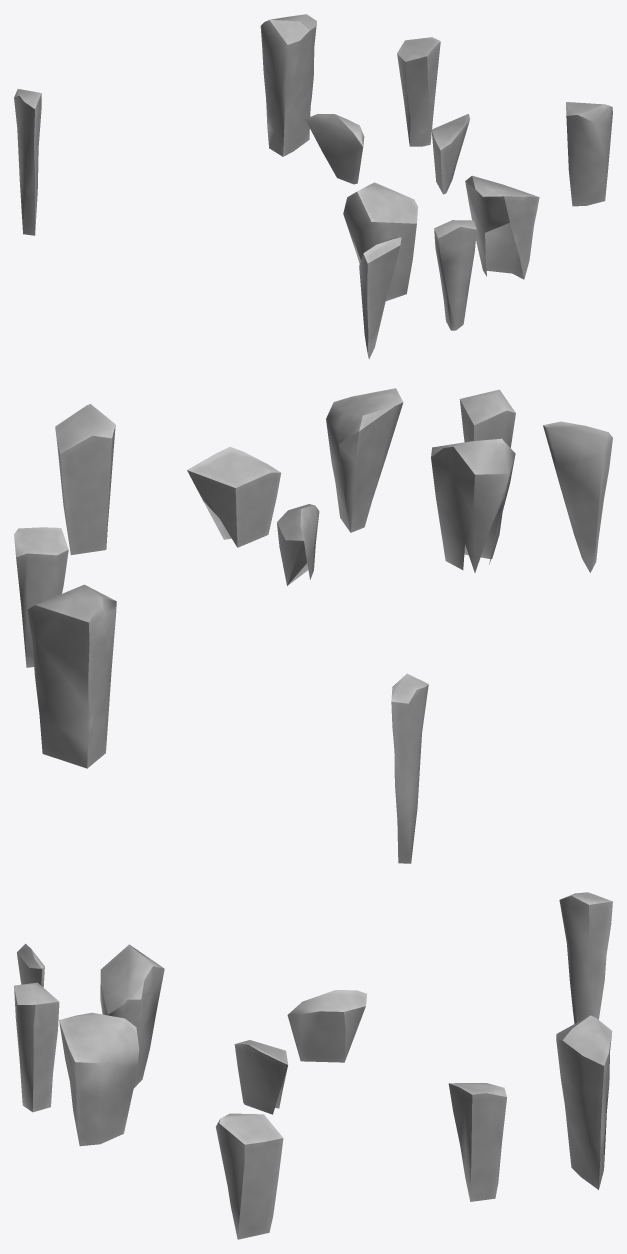
The model's file is sculpted_rubble_01.glb.
The picture shows the model from 3 angles, top to bottom: view 1: azimuth 30°, elevation 25°; view 2: azimuth 150°, elevation 25°; view 3: azimuth 270°, elevation 25°; orthographic projection. The views are drawn at different scales.
Visible parts, largest first — view 1: sculpted_rubble_01; view 2: sculpted_rubble_01; view 3: sculpted_rubble_01.
Boxes of the visible parts, x1,y1,x2,y2 form: sculpted_rubble_01: (14, 14, 612, 359); sculpted_rubble_01: (14, 388, 612, 863); sculpted_rubble_01: (14, 892, 612, 1239).
Size of the model in its own units: 1.68 by 0.5801 by 1.74.
1 material, 1 textured.
